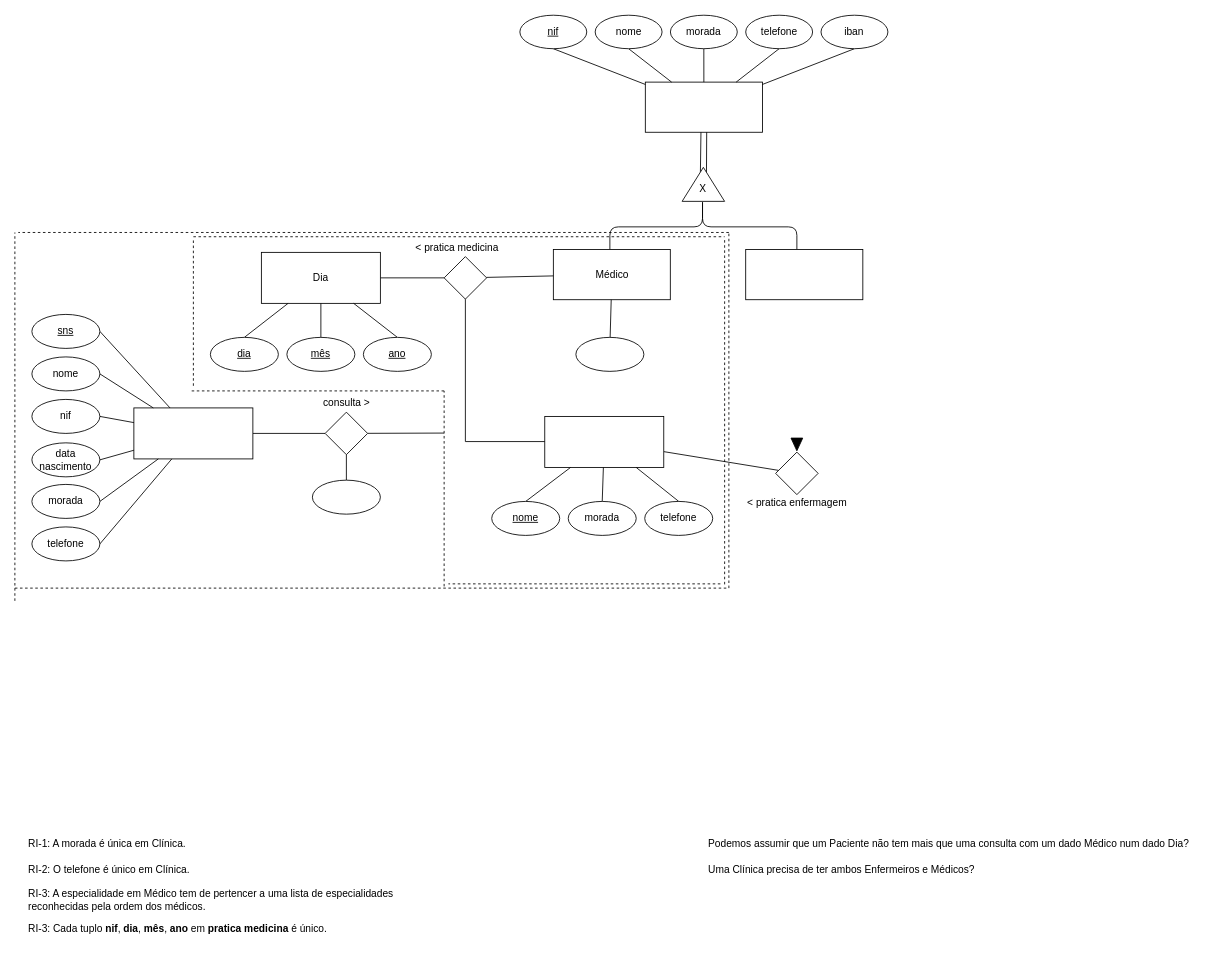
The diagram is 1223 pixels wide and 957 high, and some of its shapes have lost their labels. Here are the shapes that lost their labels. From the top down, the centre of each, then its label:
(x=703, y=106): Profissional de Saúde
(x=804, y=274): Enfermeiro
(x=609, y=354): especialidade
(x=193, y=433): Paciente
(x=604, y=441): Clínica
(x=346, y=496): período
